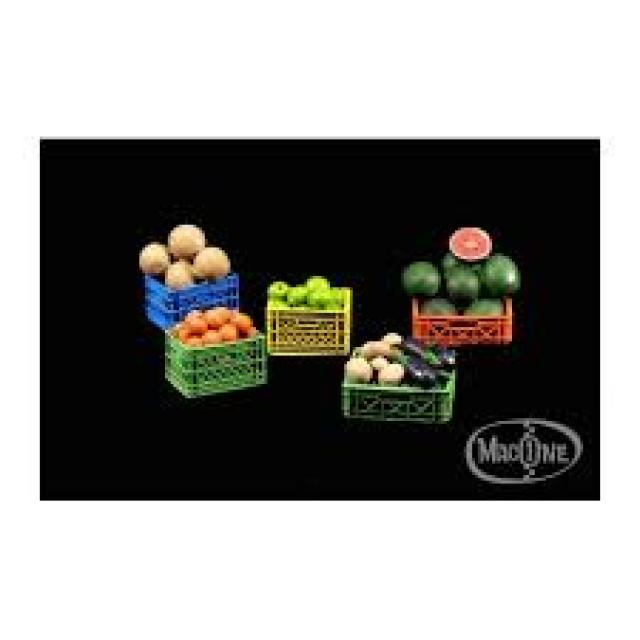basket: (266, 275, 353, 359), (343, 364, 456, 421), (162, 335, 265, 397), (144, 272, 241, 331), (411, 296, 511, 343)
